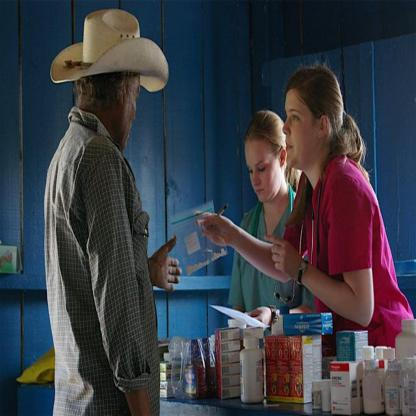face: (108, 63, 142, 155), (285, 89, 316, 173), (249, 136, 278, 205)
